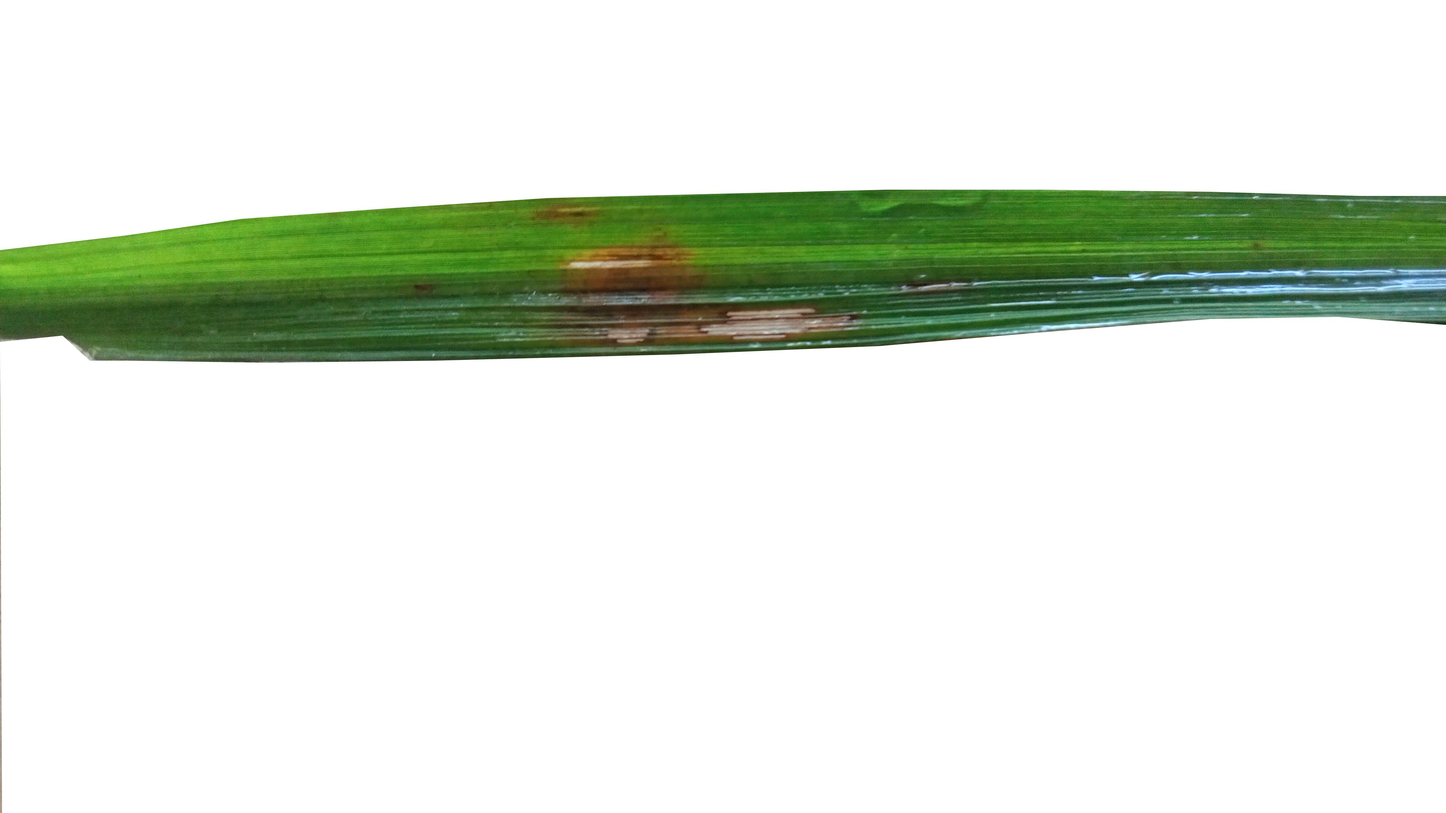Rice blast: (532, 204, 875, 349)
